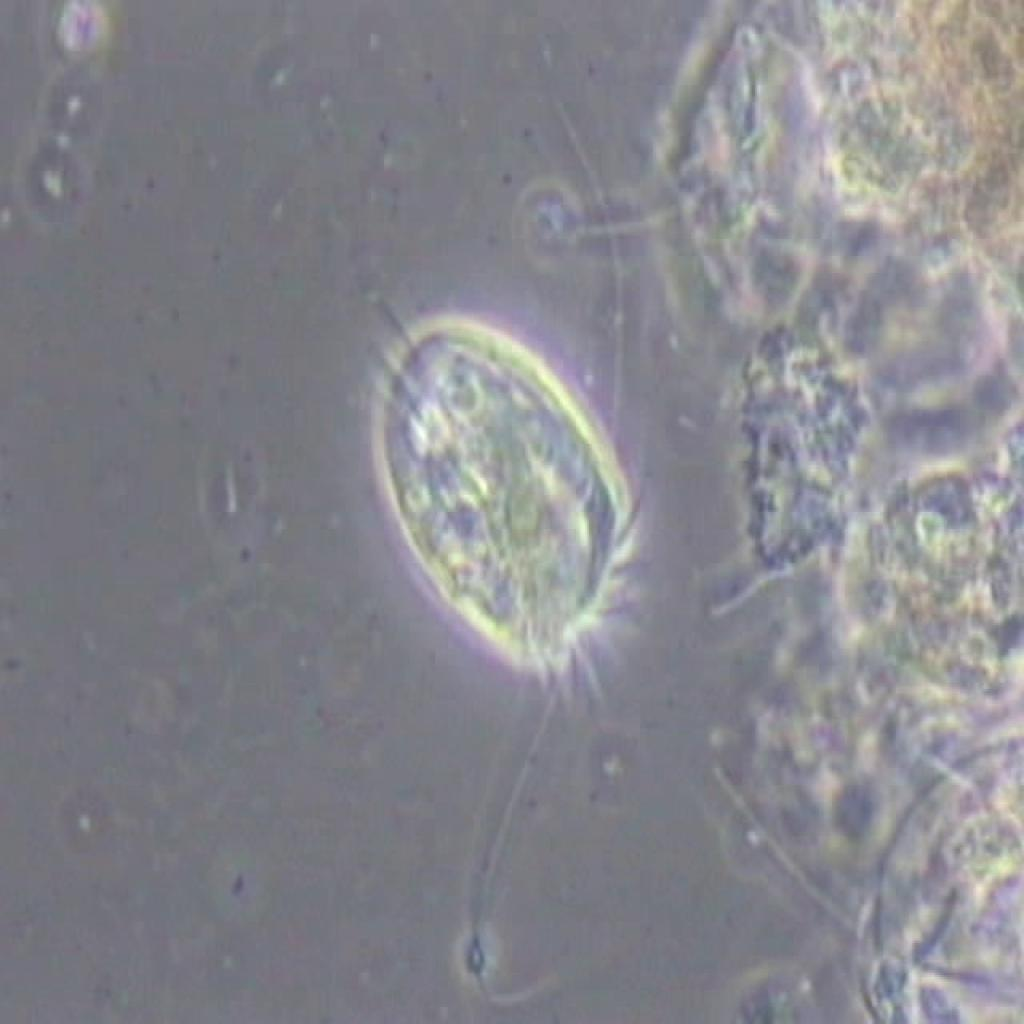Euplotes: (308, 271, 678, 706)
